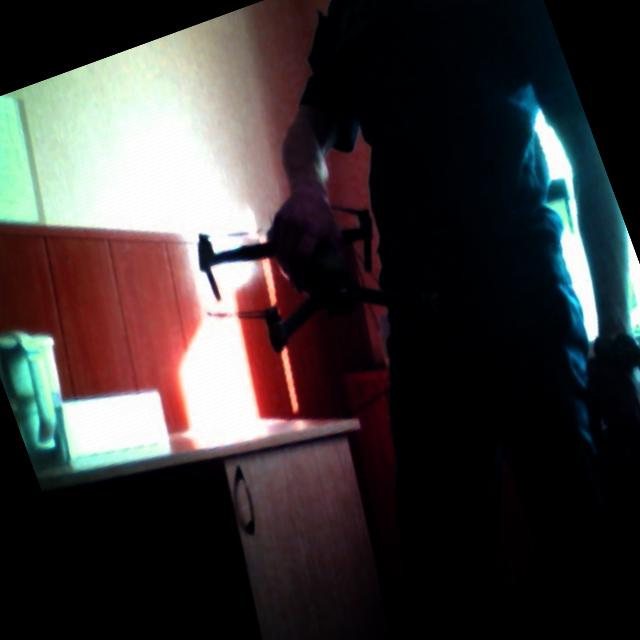drone: (159, 132, 472, 408)
